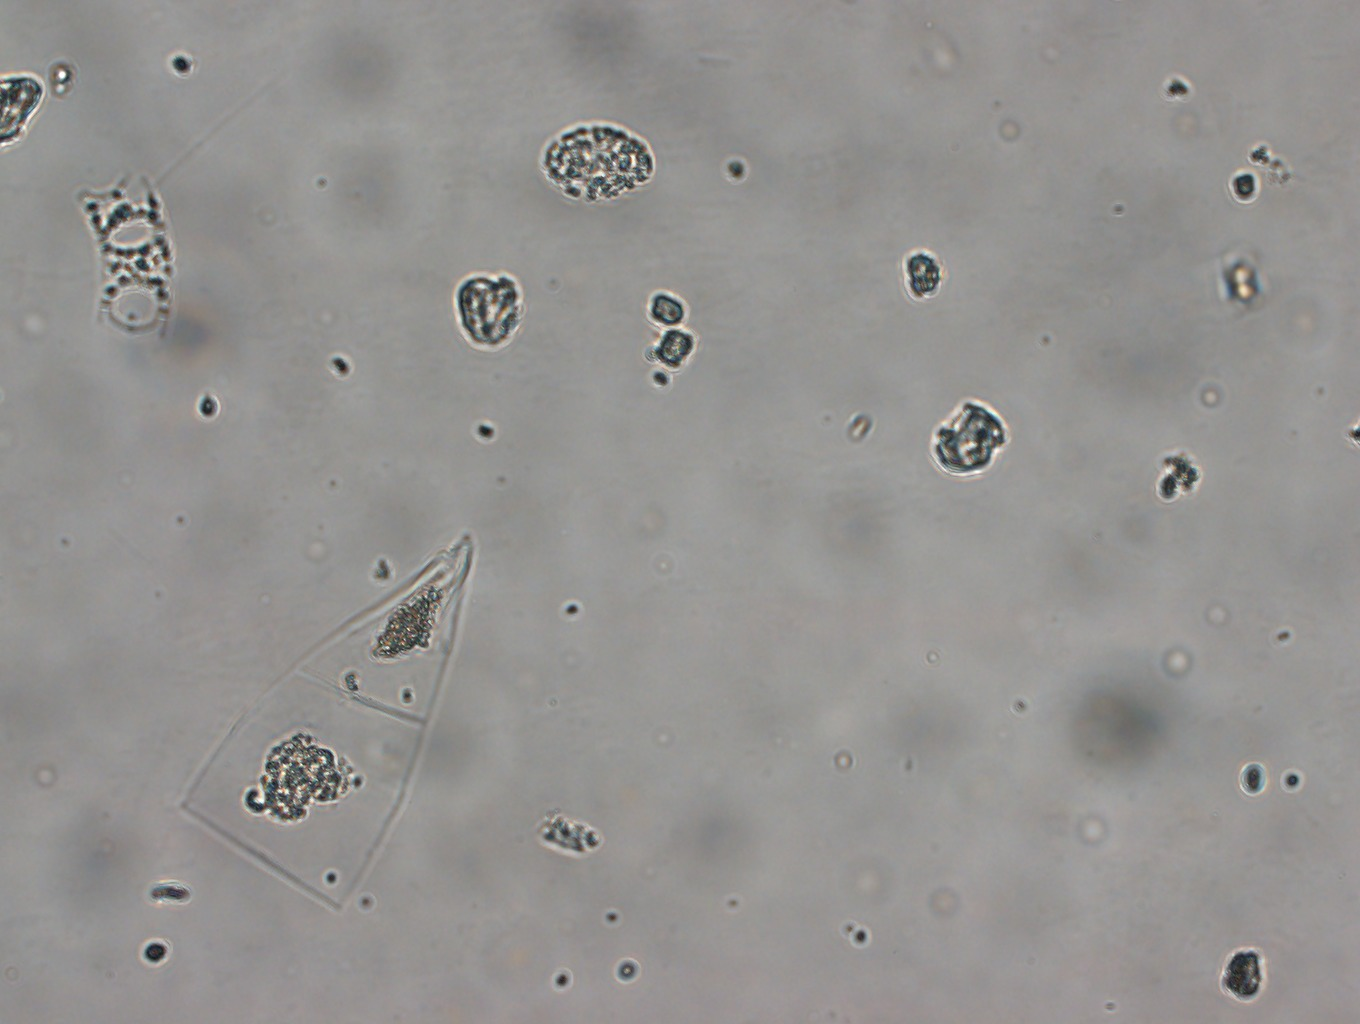eucampia: (74, 168, 174, 345)
helicotheca: (181, 534, 476, 909)
